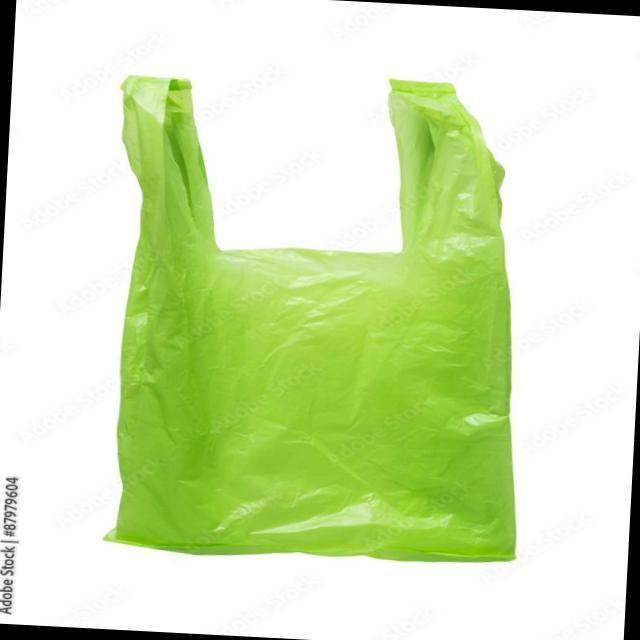Plastic_Bag: (75, 62, 548, 569)
